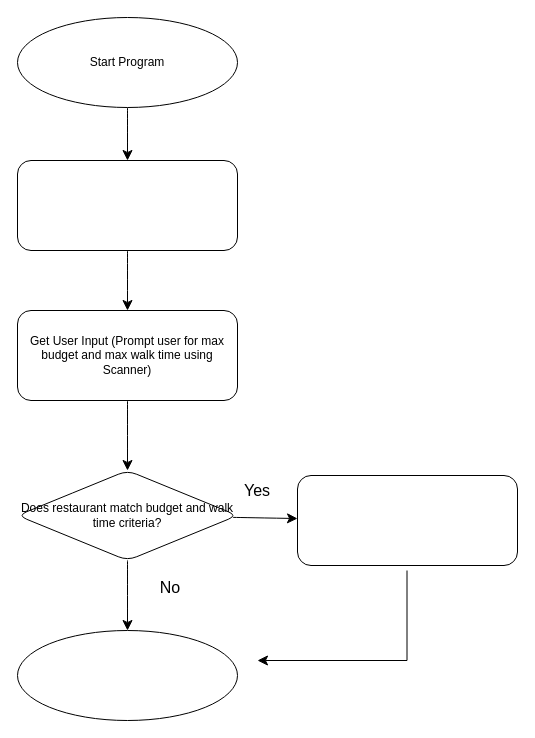
The diagram is 535 pixels wide and 738 high, and some of its shapes have lost their labels. Each missing label, with the centre of its shape:
End Program: the point at 127,675
Load Data (Read restaurants.csv into ArrayList<Restaurant>): the point at 127,205
Print Matching Spot Details to Console: the point at 407,520
